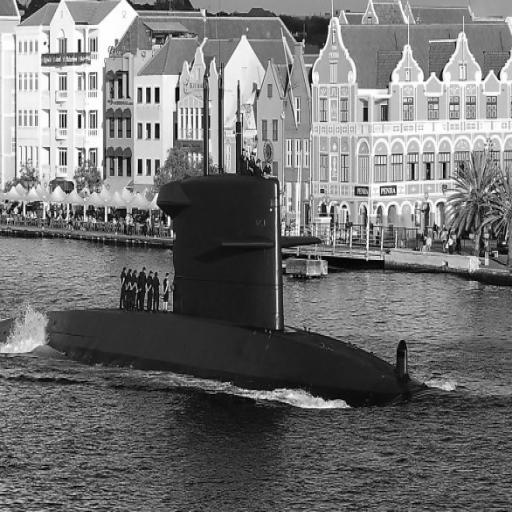submarine: (1, 173, 432, 411)
